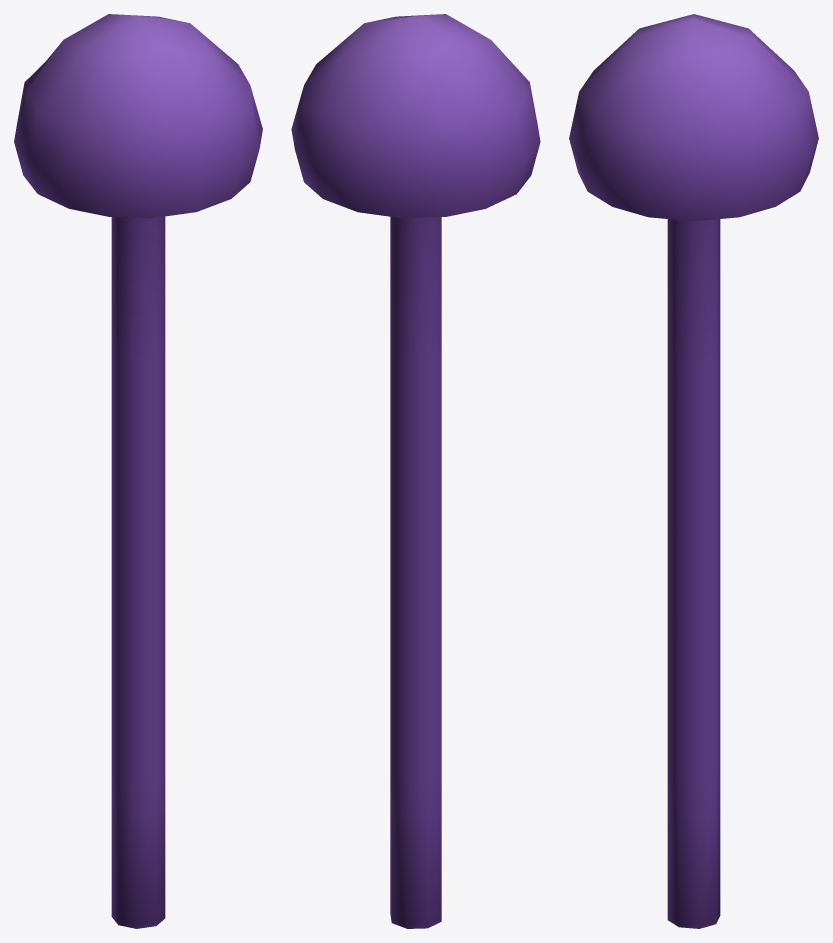
The model's file is Amethyst_Deceiver_Small.fbx.
3 renders of one model, left to right at view 1: azimuth 30°, elevation 25°; view 2: azimuth 150°, elevation 25°; view 3: azimuth 270°, elevation 25°, orthographic.
Parts seen in each view (by area): view 1: Amethyst_Deceiver_Small; view 2: Amethyst_Deceiver_Small; view 3: Amethyst_Deceiver_Small.
Part boxes in pixels (bbox=[...]): Amethyst_Deceiver_Small: bbox=[14, 14, 262, 928]; Amethyst_Deceiver_Small: bbox=[291, 14, 540, 928]; Amethyst_Deceiver_Small: bbox=[569, 14, 818, 928].
Bounding box in the file's own units: 6.73 × 26.69 × 6.73.
